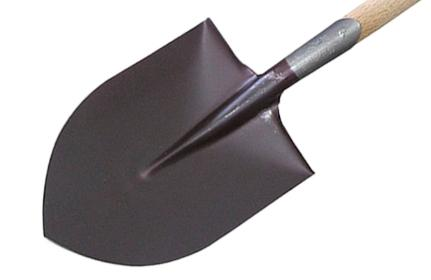PELLE: (24, 0, 431, 259)
